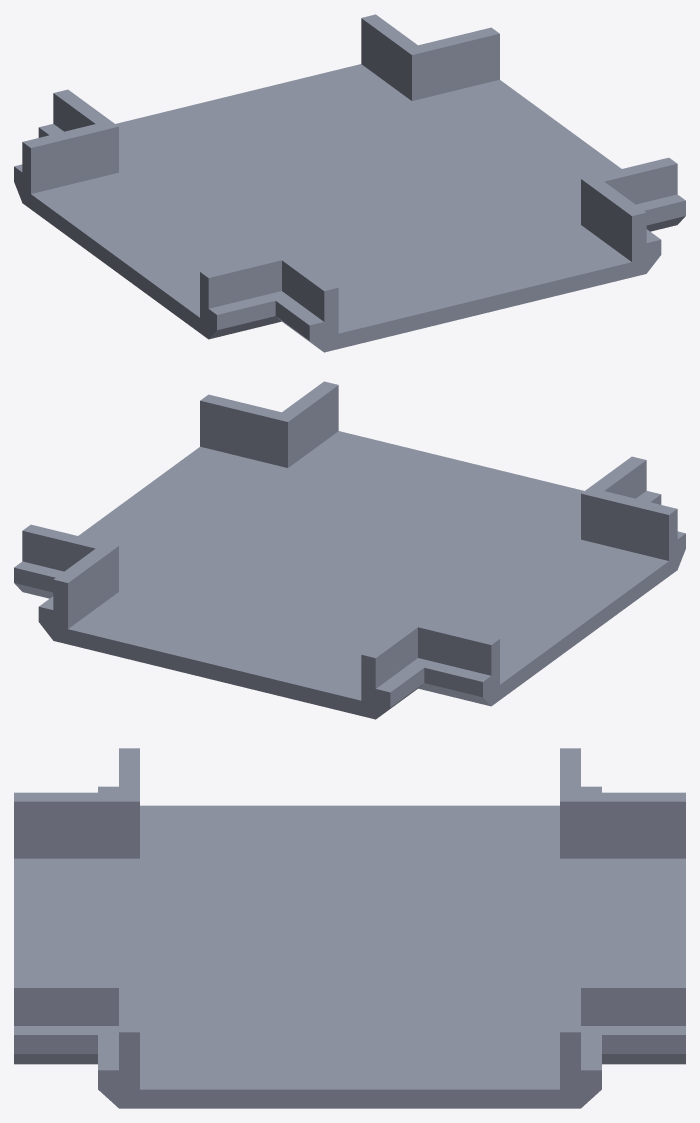
The model's file is bridge_0001_center_v02.gltf.
3 views of the same model, one above another, from view 1: azimuth 30°, elevation 25°; view 2: azimuth 150°, elevation 25°; view 3: azimuth 270°, elevation 25° (orthographic). The views are drawn at different scales.
Parts seen in each view (by area): view 1: massing; view 2: massing; view 3: massing.
Part boxes in pixels (x1,y1,x2,y2): massing: (14,14,685,352); massing: (14,381,685,719); massing: (14,748,685,1108).
Size of what is drawn, in the model's own units: 16 by 2 by 16.
